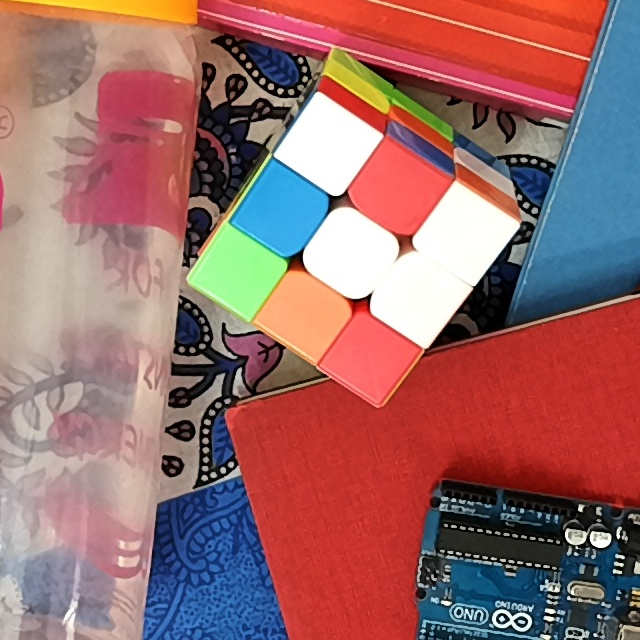tile: (369, 166, 424, 218), (439, 208, 491, 261), (326, 228, 378, 280), (304, 120, 354, 172), (393, 271, 441, 325), (344, 334, 394, 382), (258, 188, 307, 236), (281, 290, 330, 335), (218, 249, 263, 295)
